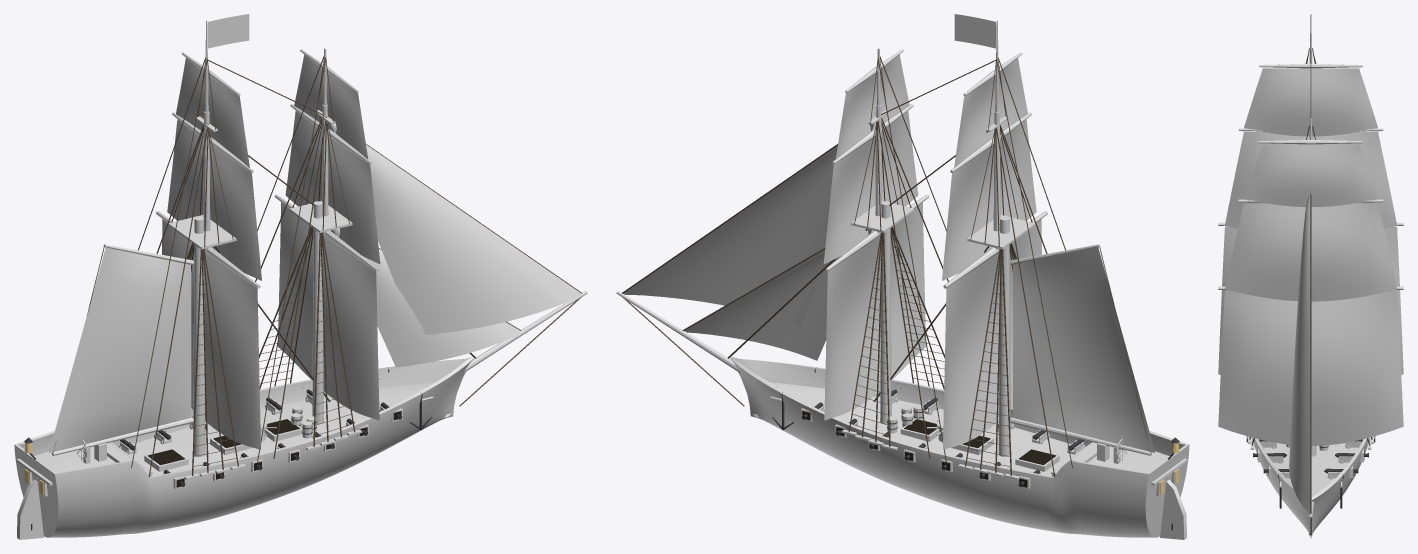
Rendered from SM_Ship_Brig.fbx.
3 views of the same model, side by side, from view 1: azimuth 30°, elevation 25°; view 2: azimuth 150°, elevation 25°; view 3: azimuth 270°, elevation 25° (orthographic). The views are drawn at different scales.
Parts seen in each view (by area): view 1: SM_Ship_Brig; view 2: SM_Ship_Brig; view 3: SM_Ship_Brig.
Boxes of the visible parts, bbox=[...] form: SM_Ship_Brig: bbox=[14, 14, 587, 539]; SM_Ship_Brig: bbox=[616, 14, 1189, 539]; SM_Ship_Brig: bbox=[1218, 14, 1403, 538].
Size of the model in its own units: 3884 by 3219 by 1202.
